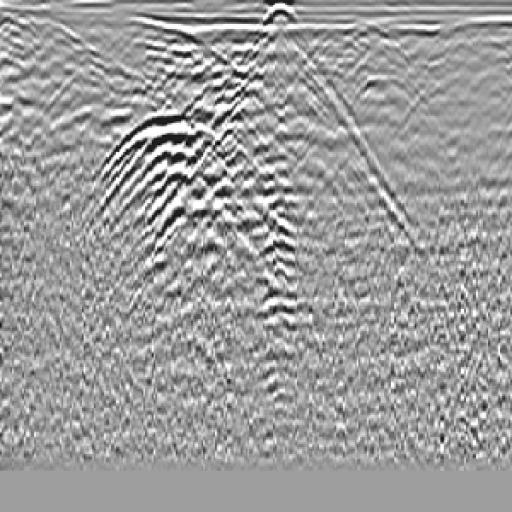non-metallic: (151, 1, 436, 257), (89, 34, 297, 294)
